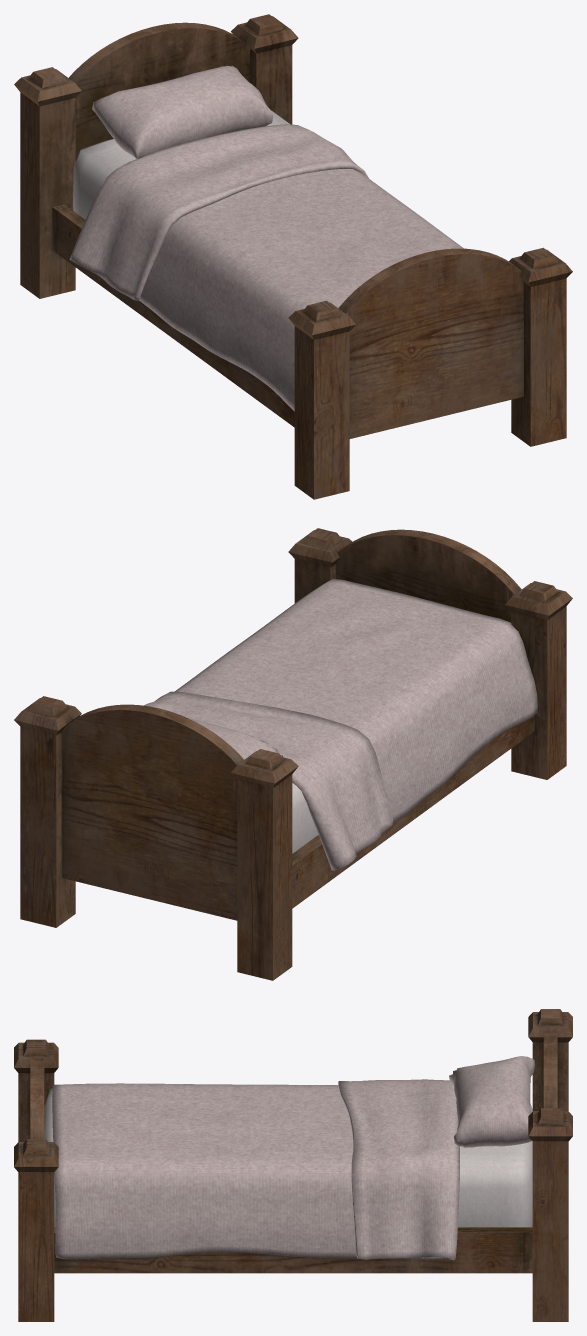
The model's file is Bed.fbx.
3 renders of one model, top to bottom at view 1: azimuth 30°, elevation 25°; view 2: azimuth 150°, elevation 25°; view 3: azimuth 270°, elevation 25°, orthographic. The views are drawn at different scales.
Visible parts, largest first — view 1: Bed; view 2: Bed; view 3: Bed.
Part boxes in pixels (x1,y1,x2,y2): Bed: [14, 14, 572, 499]; Bed: [14, 528, 572, 980]; Bed: [14, 1009, 572, 1321].
Size of the model in its own units: 77.84 by 60.99 by 142.
1 material, 1 textured.
